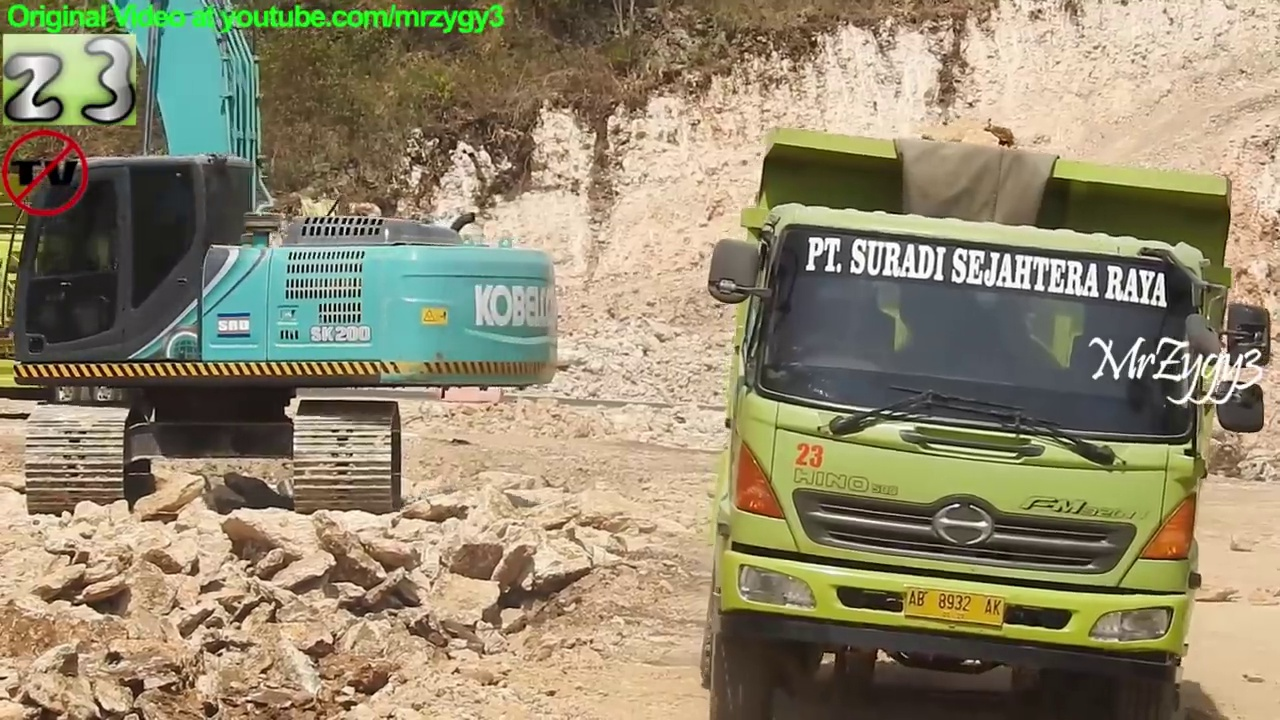excavator: (1, 1, 565, 526)
truck: (696, 124, 1276, 720), (1, 157, 372, 412)
